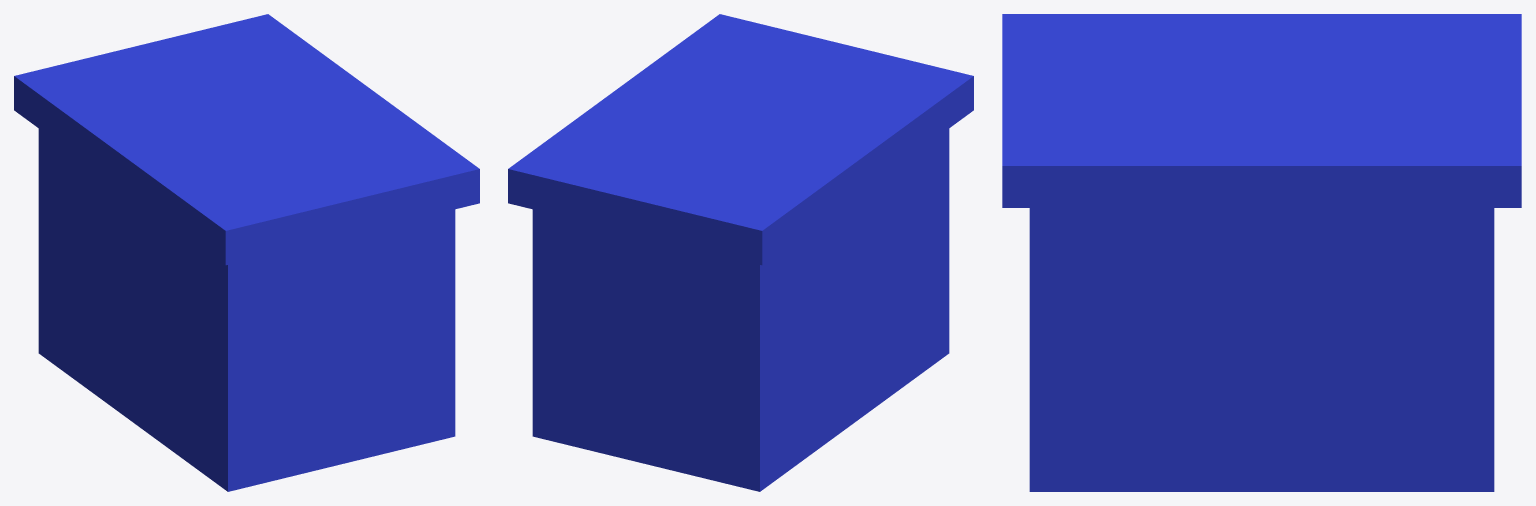
File: plastic_bin.fbx
3 renders of one model, left to right at view 1: azimuth 30°, elevation 25°; view 2: azimuth 150°, elevation 25°; view 3: azimuth 270°, elevation 25°, orthographic. The views are drawn at different scales.
Parts seen in each view (by area): view 1: Cube.014; view 2: Cube.014; view 3: Cube.014.
Part boxes in pixels (x1=…): Cube.014: x1=14, y1=14, x2=479, y2=491; Cube.014: x1=508, y1=14, x2=973, y2=491; Cube.014: x1=1002, y1=14, x2=1521, y2=491.
Bounding box in the file's own units: 104 × 107 × 150.
